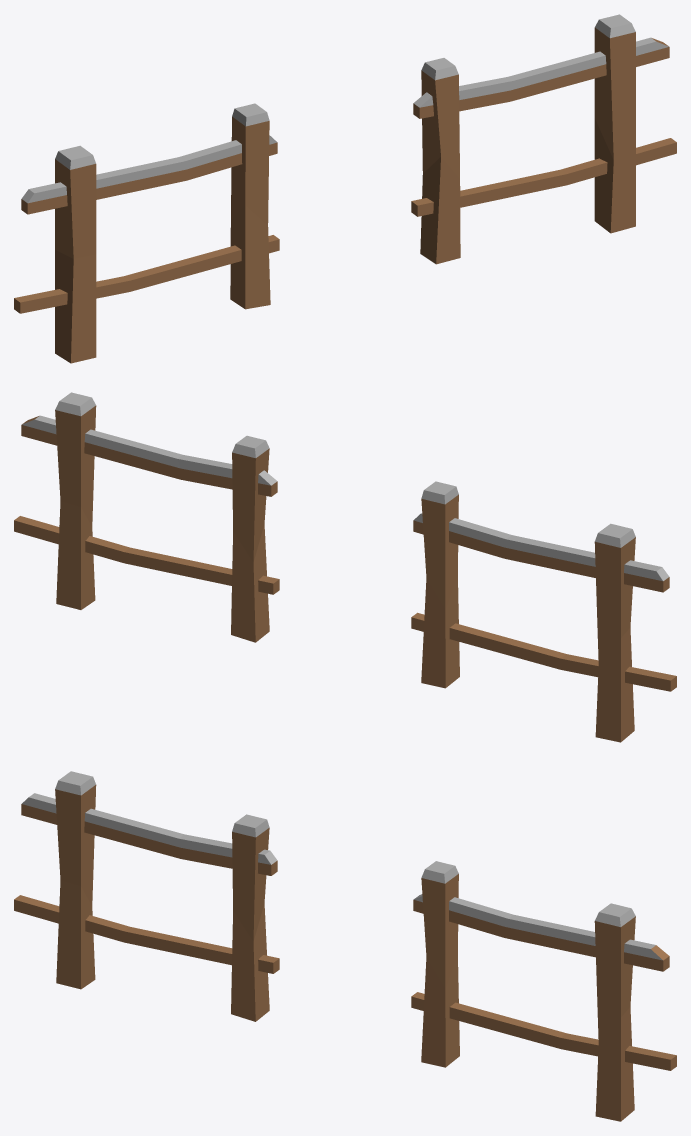
The model's file is Fence_4 Gate Winter.fbx.
3 renders of one model, top to bottom at view 1: azimuth 30°, elevation 25°; view 2: azimuth 150°, elevation 25°; view 3: azimuth 330°, elevation 25°, orthographic.
Visible parts, largest first — view 1: Fence4GateWinter_mesh; view 2: Fence4GateWinter_mesh; view 3: Fence4GateWinter_mesh.
Boxes of the visible parts, x1=… form: Fence4GateWinter_mesh: x1=14, y1=14, x2=676, y2=363; Fence4GateWinter_mesh: x1=14, y1=392, x2=676, y2=742; Fence4GateWinter_mesh: x1=14, y1=771, x2=676, y2=1121.
Size of the model in its own units: 376 by 111 by 14.93.
